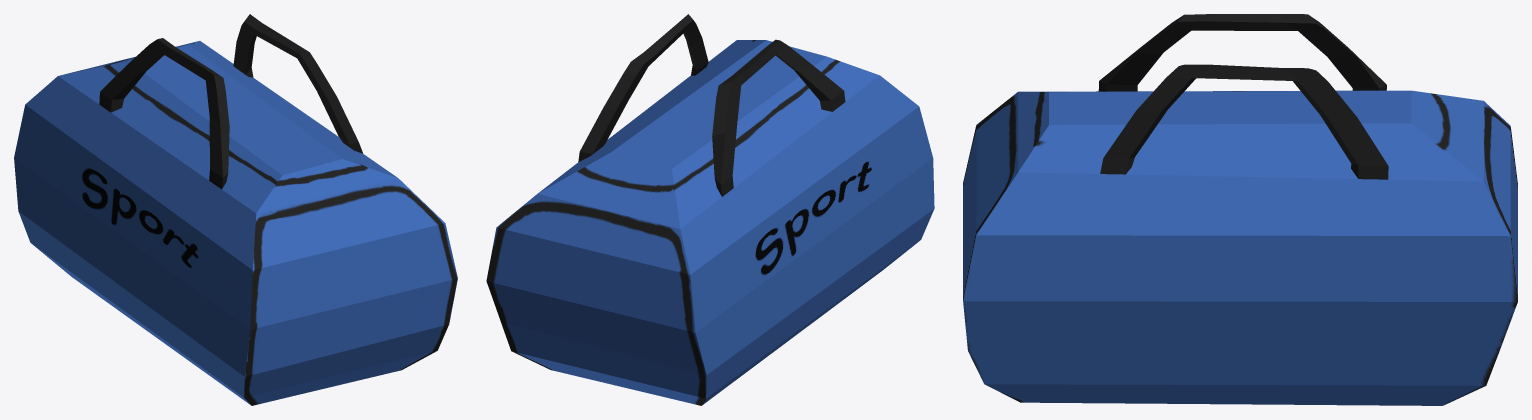
The model's file is BolsaDeporte.FBX.
3 renders of one model, left to right at view 1: azimuth 30°, elevation 25°; view 2: azimuth 150°, elevation 25°; view 3: azimuth 270°, elevation 25°, orthographic. The views are drawn at different scales.
Parts seen in each view (by area): view 1: Cube; view 2: Cube; view 3: Cube.
Boxes of the visible parts, bbox=[...] form: Cube: bbox=[14, 14, 457, 405]; Cube: bbox=[486, 14, 934, 405]; Cube: bbox=[963, 14, 1517, 405].
Size of the model in its own units: 84.06 by 106 by 163.
Materials: 1 (1 with a texture image).
